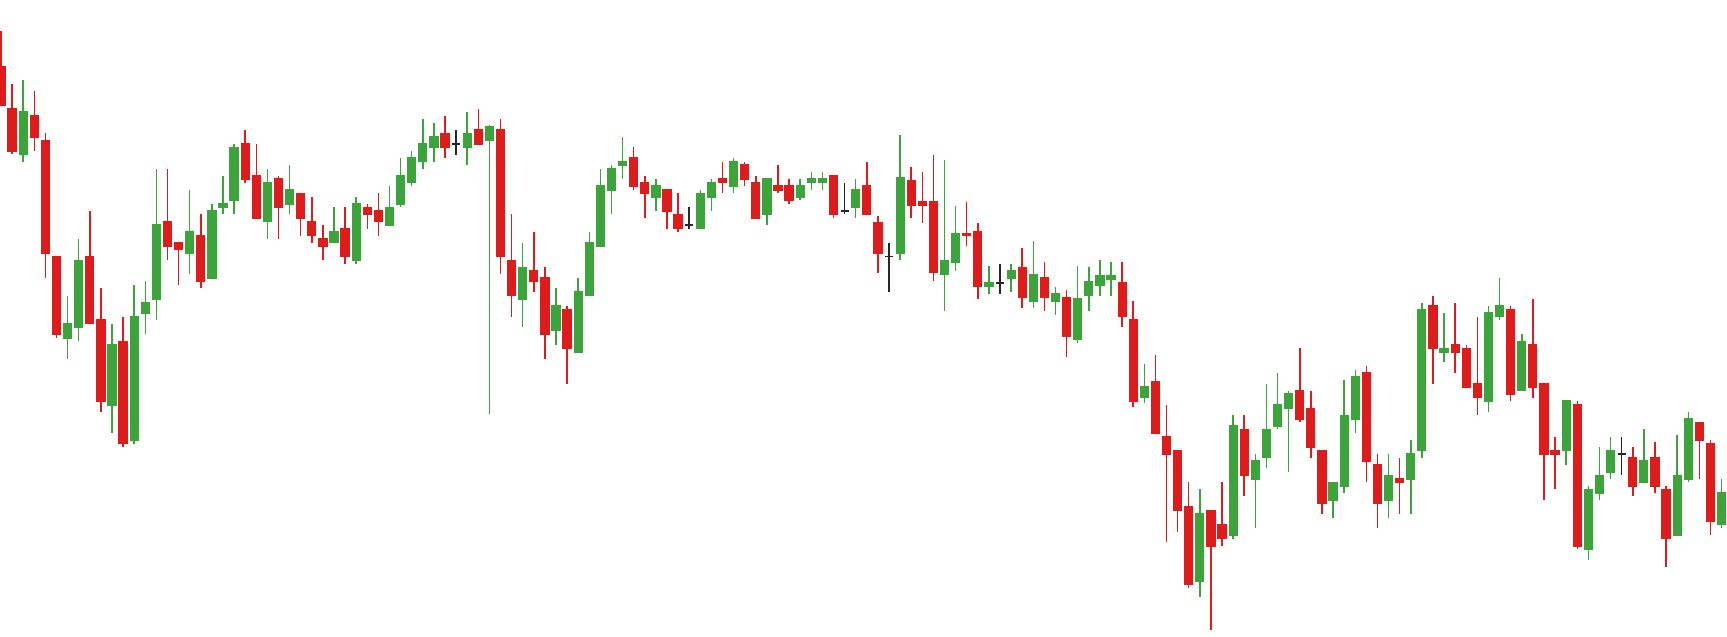buy: (1569, 472, 1686, 569), (1313, 433, 1395, 537)
sell: (151, 122, 251, 249), (1409, 279, 1517, 380)
